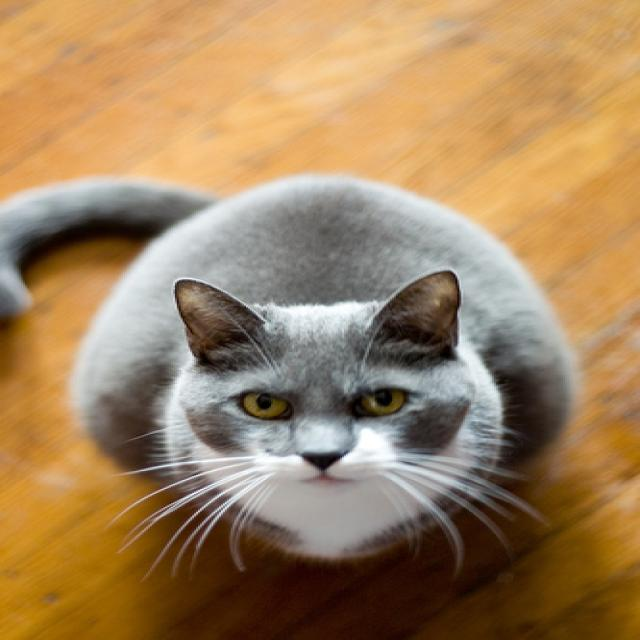left eye: (350, 386, 409, 418)
